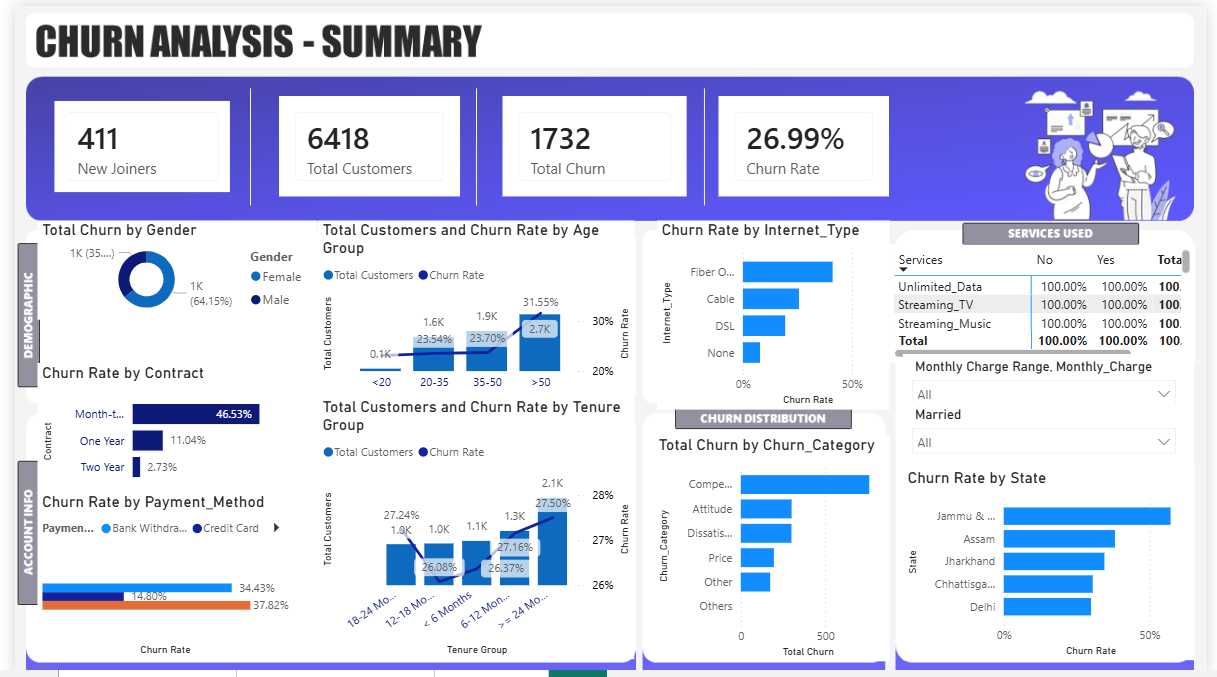

What the dashboard file says about the page in this screenshot:
{"tool":"powerbi","page":{"name":"churn_analysis","canvas":[1280,720],"ordinal":0},"visuals":[{"type":"cardVisual","fields":{"Data":["Tbl_measures.New Joiners"]},"box":[36.7,96.6,199.9,108.3],"z":0},{"type":"cardVisual","fields":{"Data":["Tbl_measures.Total Customers"]},"box":[283.2,96.6,194.9,108.3],"z":1000},{"type":"textbox","box":[150,257,300,300],"z":2000},{"type":"cardVisual","fields":{"Data":["Tbl_measures.Total Churn"]},"box":[524.8,96.6,198.2,108.3],"z":3000},{"type":"cardVisual","fields":{"Data":["Tbl_measures.Churn Rate"]},"box":[756.3,96.6,183.3,108.3],"z":4000},{"type":"donutChart","fields":{"Category":["prod_Churn.Gender"],"Y":["Tbl_measures.Total Churn"]},"box":[25,229.9,299.9,106.6],"z":5000},{"type":"lineStackedColumnComboChart","fields":{"Category":["mapping_Agegrp.Age Group"],"Y":["Tbl_measures.Total Customers"],"Y2":["Tbl_measures.Churn Rate"]},"box":[326.5,229.9,339.9,191.6],"z":6000},{"type":"clusteredBarChart","fields":{"Series":["prod_Churn.Payment_Method"],"Y":["Tbl_measures.Churn Rate"]},"box":[25,523.1,274.9,179.9],"z":7000},{"type":"clusteredBarChart","fields":{"Category":["prod_Churn.Contract"],"Y":["Tbl_measures.Churn Rate"]},"box":[25,383.2,288.2,139.9],"z":8000},{"type":"lineStackedColumnComboChart","fields":{"Category":["mapping_tenureGrp.Tenure Group"],"Y":["Tbl_measures.Total Customers"],"Y2":["Tbl_measures.Churn Rate"]},"box":[326.5,421.5,339.9,281.5],"z":8001},{"type":"clusteredBarChart","fields":{"Category":["prod_Churn.State"],"Y":["Tbl_measures.Churn Rate"]},"box":[954.6,496.5,313.2,206.6],"z":8002},{"type":"clusteredBarChart","fields":{"Category":["prod_Churn.Churn_Category"],"Y":["Tbl_measures.Total Churn"]},"box":[686.4,461.5,253.2,243.2],"z":8003},{"type":"clusteredBarChart","fields":{"Category":["prod_Churn.Internet_Type"],"Y":["Tbl_measures.Churn Rate"]},"box":[689.7,229.9,249.9,203.2],"z":8004},{"type":"pivotTable","fields":{"Rows":["prod_Services.Services"],"Columns":["prod_Services.Status"],"Values":["Min(prod_Services.Churn Status)"]},"box":[939.6,256.6,328.2,126.6],"z":8005},{"type":"slicer","fields":{"Values":["prod_Churn.  Monthly Charge Range","prod_Churn.Monthly_Charge"]},"box":[954.6,374.8,303.2,61.6],"z":8006},{"type":"slicer","fields":{"Values":["prod_Churn.Married"]},"box":[954.6,426.5,303.2,70],"z":8007}]}

Visuals, with their boxes in screenshot pixels (x1, y1, x2, y2), scaled from the page's 1280x720 canvas onto the 1217x677 screenshot:
cardVisual - Tbl_measures.New Joiners: (x1=35, y1=91, x2=225, y2=193)
cardVisual - Tbl_measures.Total Customers: (x1=269, y1=91, x2=455, y2=193)
textbox: (x1=143, y1=242, x2=428, y2=524)
cardVisual - Tbl_measures.Total Churn: (x1=499, y1=91, x2=687, y2=193)
cardVisual - Tbl_measures.Churn Rate: (x1=719, y1=91, x2=893, y2=193)
donutChart - prod_Churn.Gender x Tbl_measures.Total Churn: (x1=24, y1=216, x2=309, y2=316)
lineStackedColumnComboChart - mapping_Agegrp.Age Group x Tbl_measures.Total Customers: (x1=310, y1=216, x2=634, y2=396)
clusteredBarChart - prod_Churn.Payment_Method x Tbl_measures.Churn Rate: (x1=24, y1=492, x2=285, y2=661)
clusteredBarChart - prod_Churn.Contract x Tbl_measures.Churn Rate: (x1=24, y1=360, x2=298, y2=492)
lineStackedColumnComboChart - mapping_tenureGrp.Tenure Group x Tbl_measures.Total Customers: (x1=310, y1=396, x2=634, y2=661)
clusteredBarChart - prod_Churn.State x Tbl_measures.Churn Rate: (x1=908, y1=467, x2=1205, y2=661)
clusteredBarChart - prod_Churn.Churn_Category x Tbl_measures.Total Churn: (x1=653, y1=434, x2=893, y2=663)
clusteredBarChart - prod_Churn.Internet_Type x Tbl_measures.Churn Rate: (x1=656, y1=216, x2=893, y2=407)
pivotTable - prod_Services.Services x prod_Services.Status: (x1=893, y1=241, x2=1205, y2=360)
slicer - prod_Churn.  Monthly Charge Range x prod_Churn.Monthly_Charge: (x1=908, y1=352, x2=1196, y2=410)
slicer - prod_Churn.Married: (x1=908, y1=401, x2=1196, y2=467)
